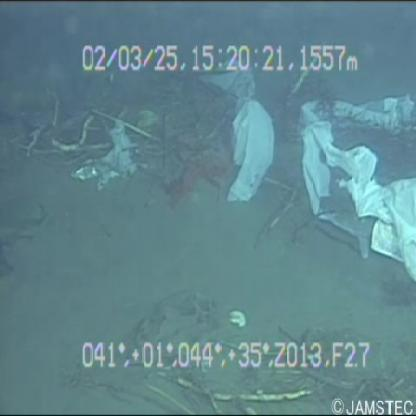Rác: (287, 83, 416, 281), (192, 59, 280, 211)
